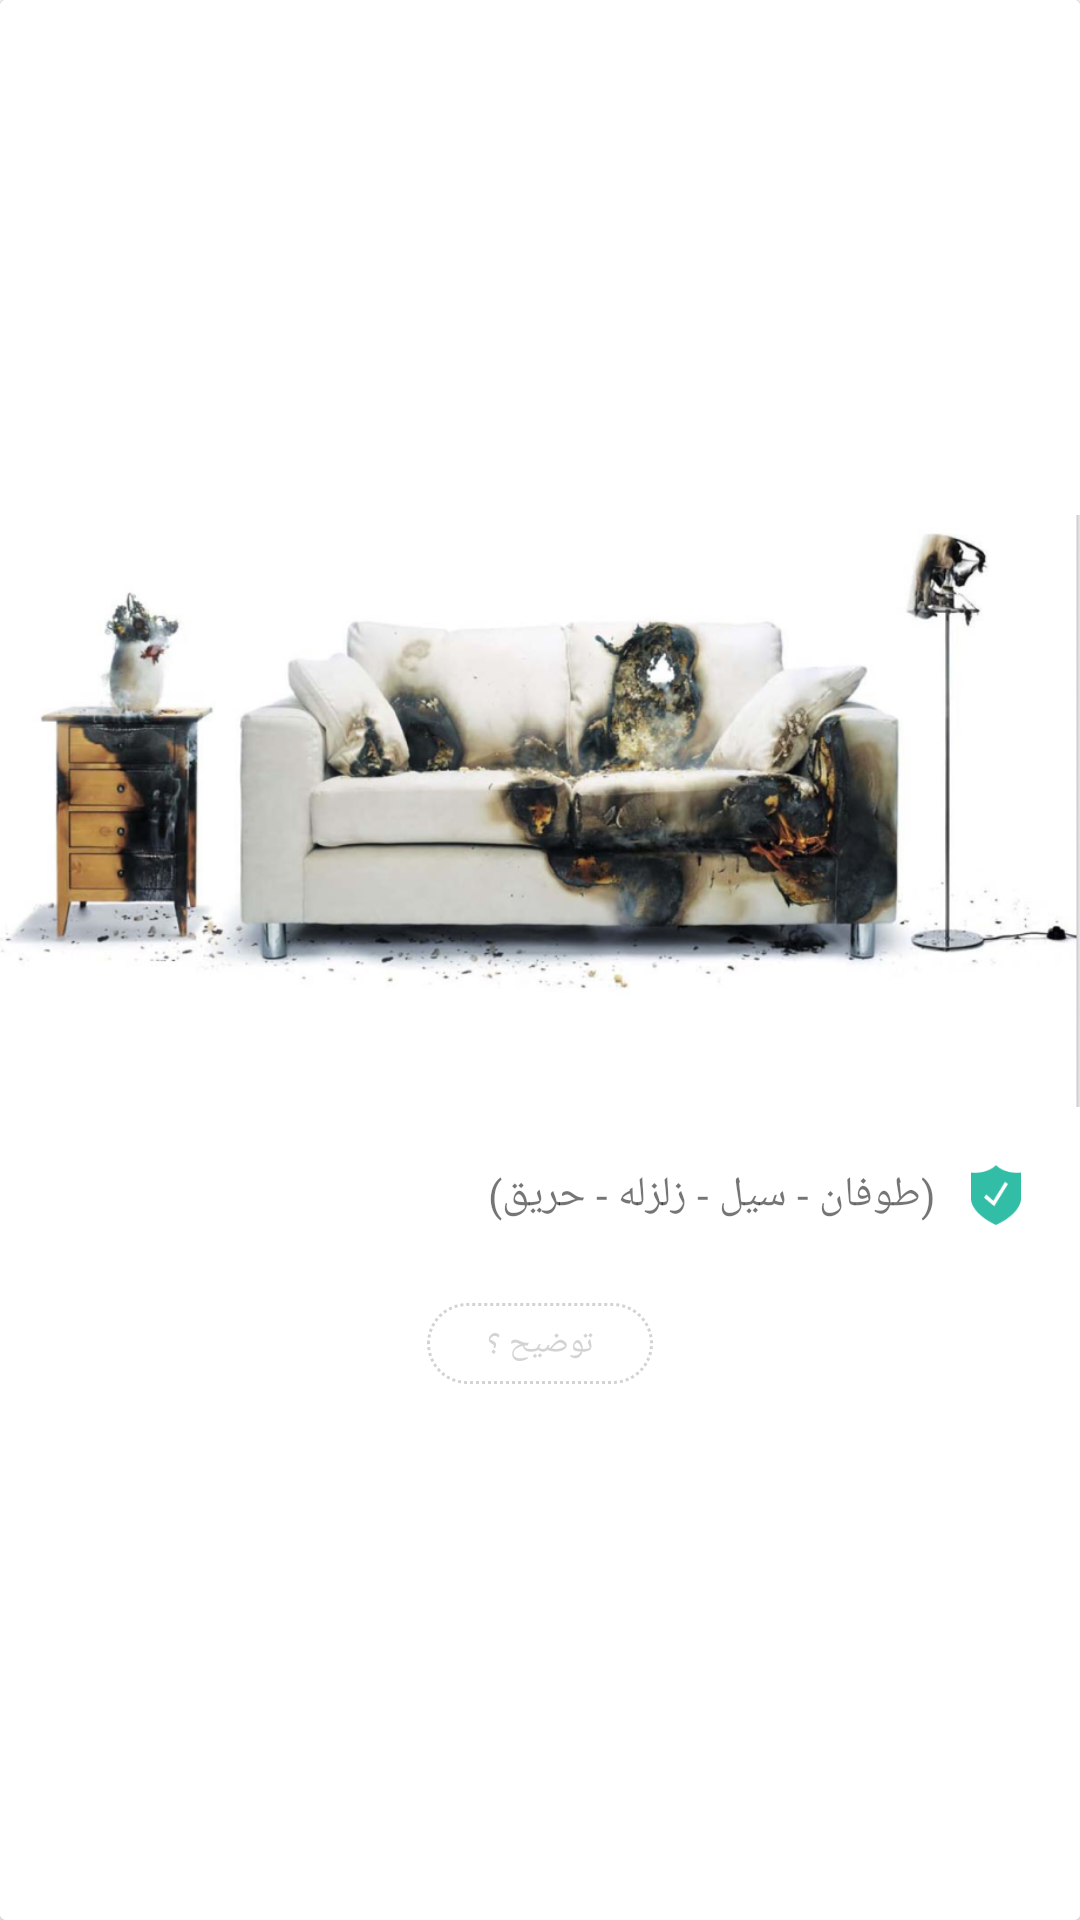

Named icons in this screenshot (1080w x 1920h) and their centers, point (x, y):
sheild tick: point (996, 1195)
